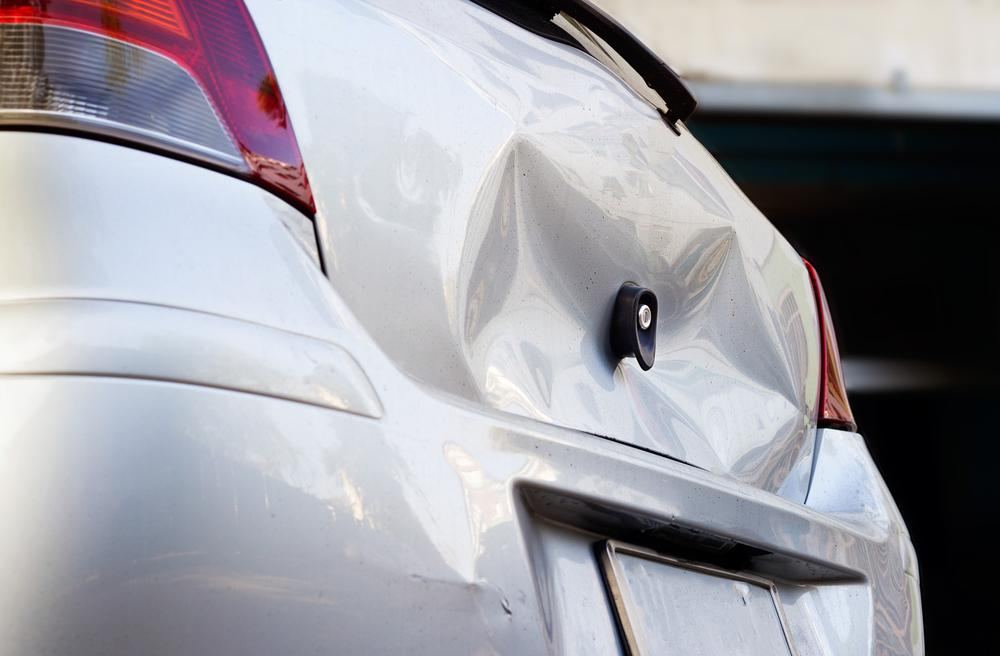dent: (458, 138, 796, 472)
